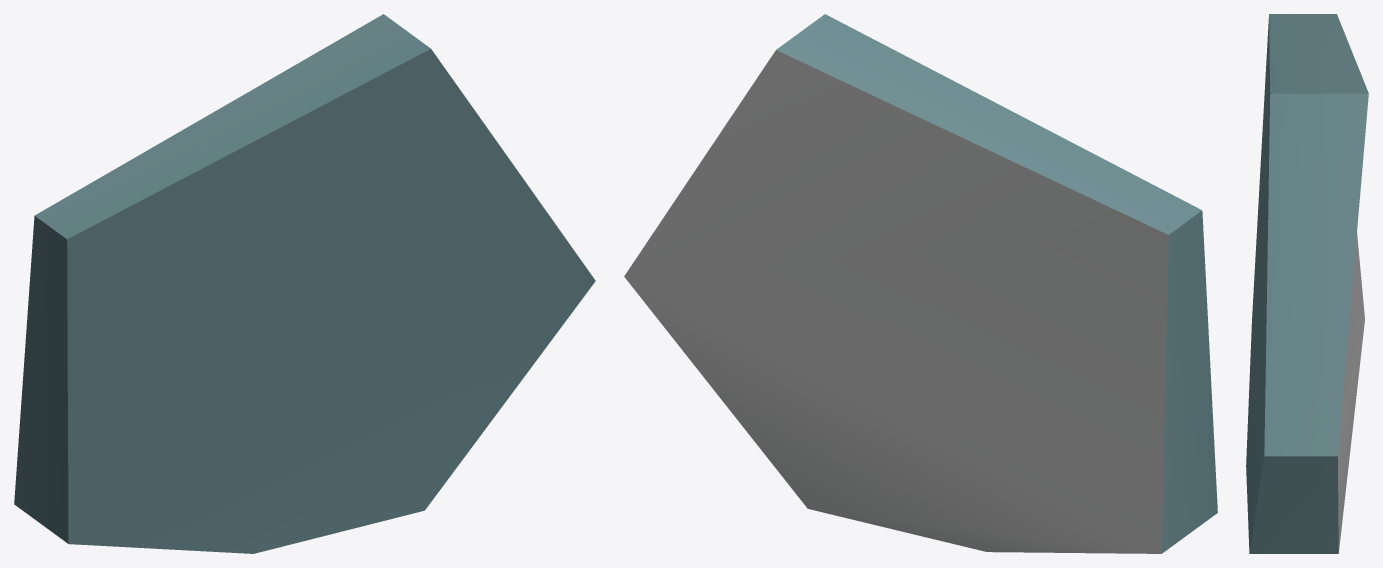
Rendered from IceDrift.002.glb.
The picture shows the model from 3 angles, left to right: view 1: azimuth 30°, elevation 25°; view 2: azimuth 150°, elevation 25°; view 3: azimuth 270°, elevation 25°; orthographic projection. The views are drawn at different scales.
Parts seen in each view (by area): view 1: IceDrift.002; view 2: IceDrift.002; view 3: IceDrift.002.
Part boxes in pixels (box(x1,y1,x2,y2)): IceDrift.002: box(14, 14, 595, 553); IceDrift.002: box(624, 14, 1217, 553); IceDrift.002: box(1246, 14, 1368, 553).
Bounding box in the file's own units: 246 × 199 × 47.18.
